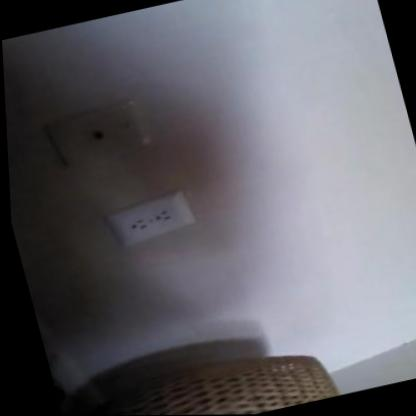OUTLET: (103, 189, 197, 247)
